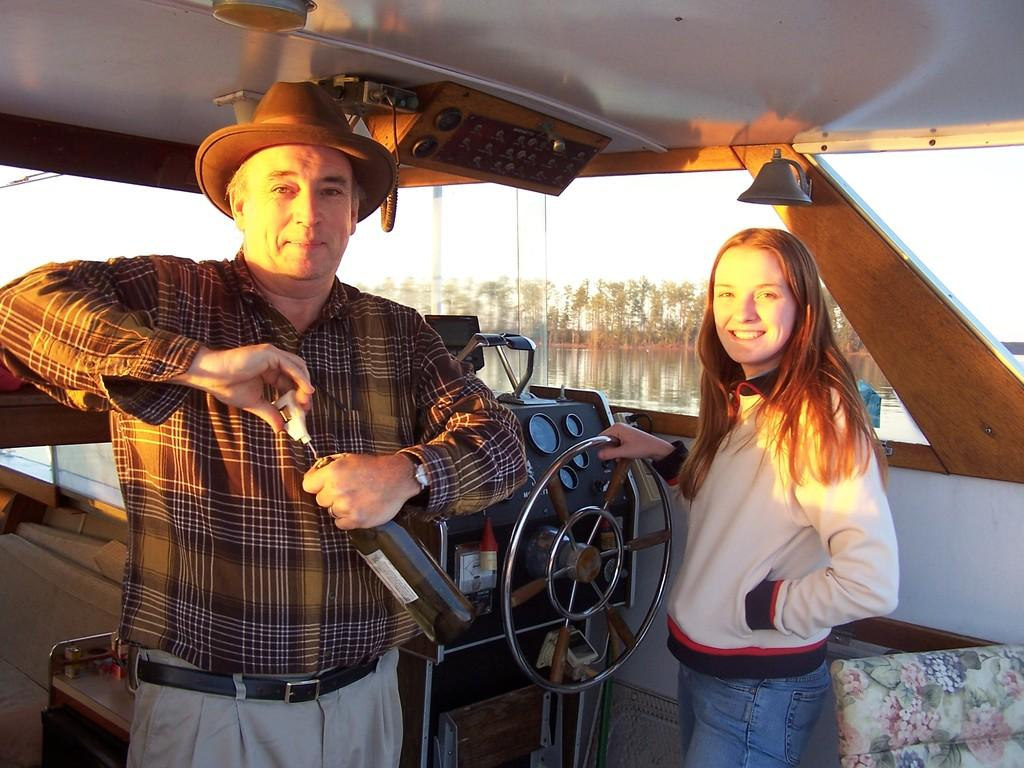Hat: (192, 76, 400, 224)
